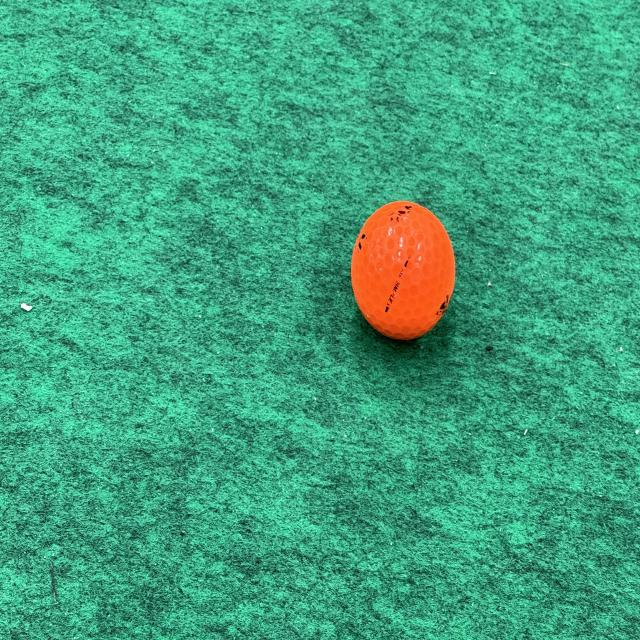ball: (350, 193, 460, 352)
